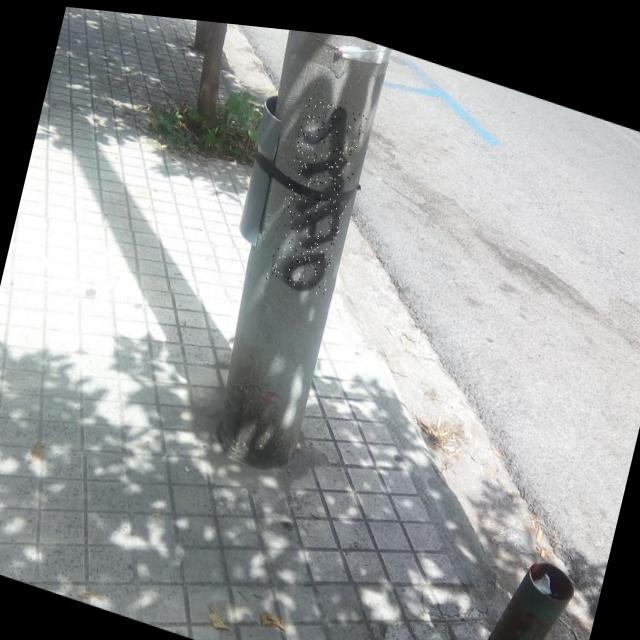-: (264, 86, 366, 294)
